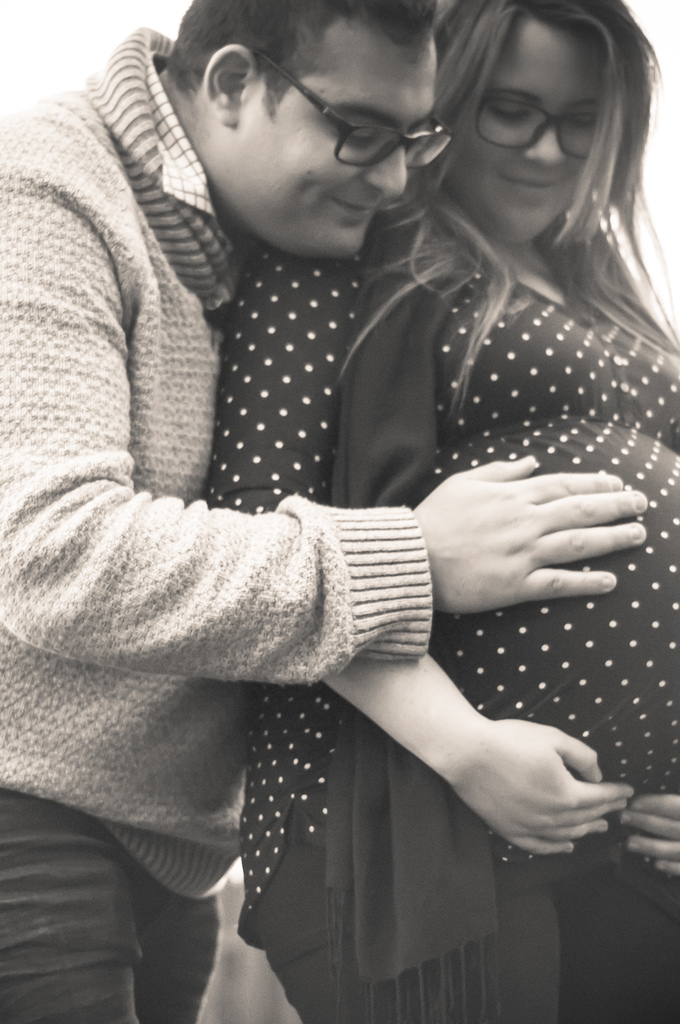Human_hand: (408, 463, 647, 620), (448, 719, 636, 855), (624, 790, 679, 874)
